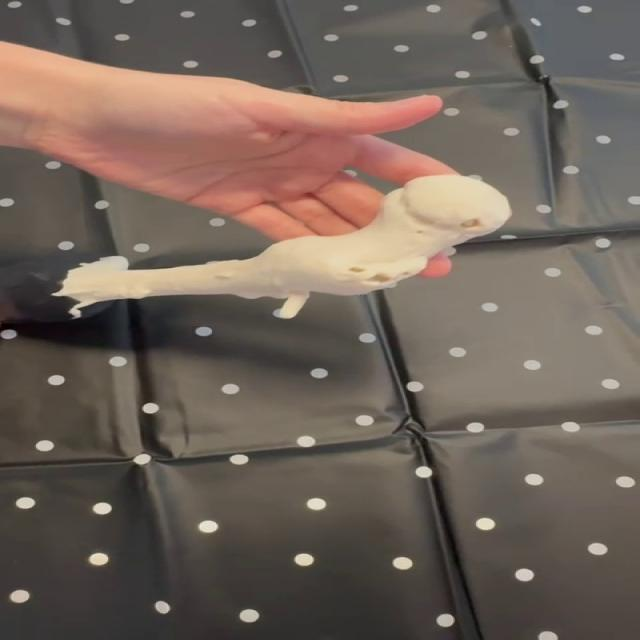bones: (0, 176, 511, 325)
